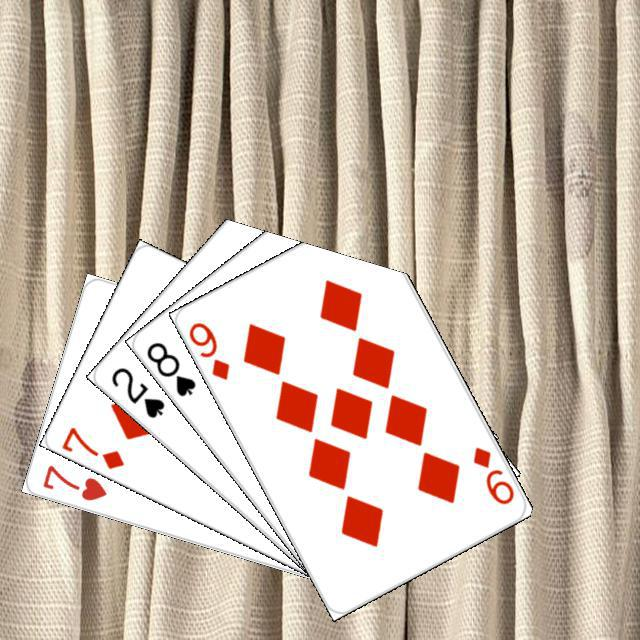2s: (106, 362, 167, 420)
7d: (57, 422, 126, 472)
7h: (37, 459, 109, 503)
8s: (141, 336, 198, 399)
9d: (183, 317, 232, 382), (467, 442, 516, 507)
